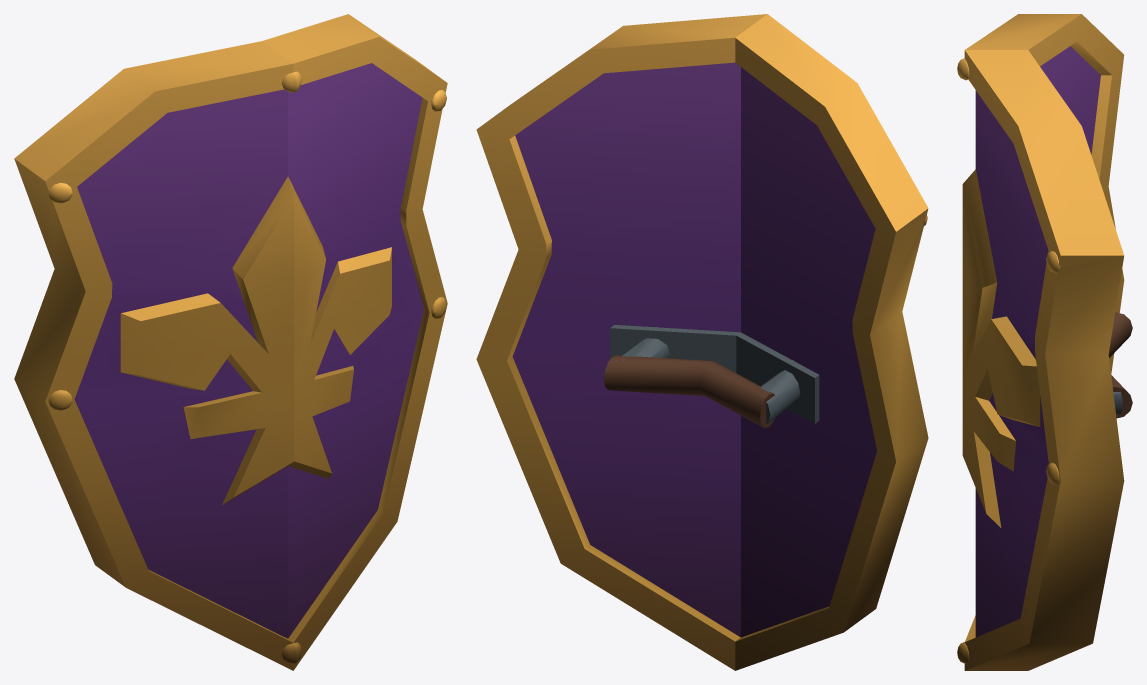
The model's file is shield_royal_lily.glb.
3 renders of one model, left to right at view 1: azimuth 30°, elevation 25°; view 2: azimuth 150°, elevation 25°; view 3: azimuth 270°, elevation 25°, orthographic. The views are drawn at different scales.
Visible parts, largest first — view 1: Item; view 2: Item; view 3: Item.
Part boxes in pixels (x1,y1,x2,y2): Item: (14,14,447,670); Item: (476,14,928,670); Item: (957,14,1132,670).
Size of the model in its own units: 0.86 by 1.24 by 0.3178.
Materials: 4 (4 with a texture image).
